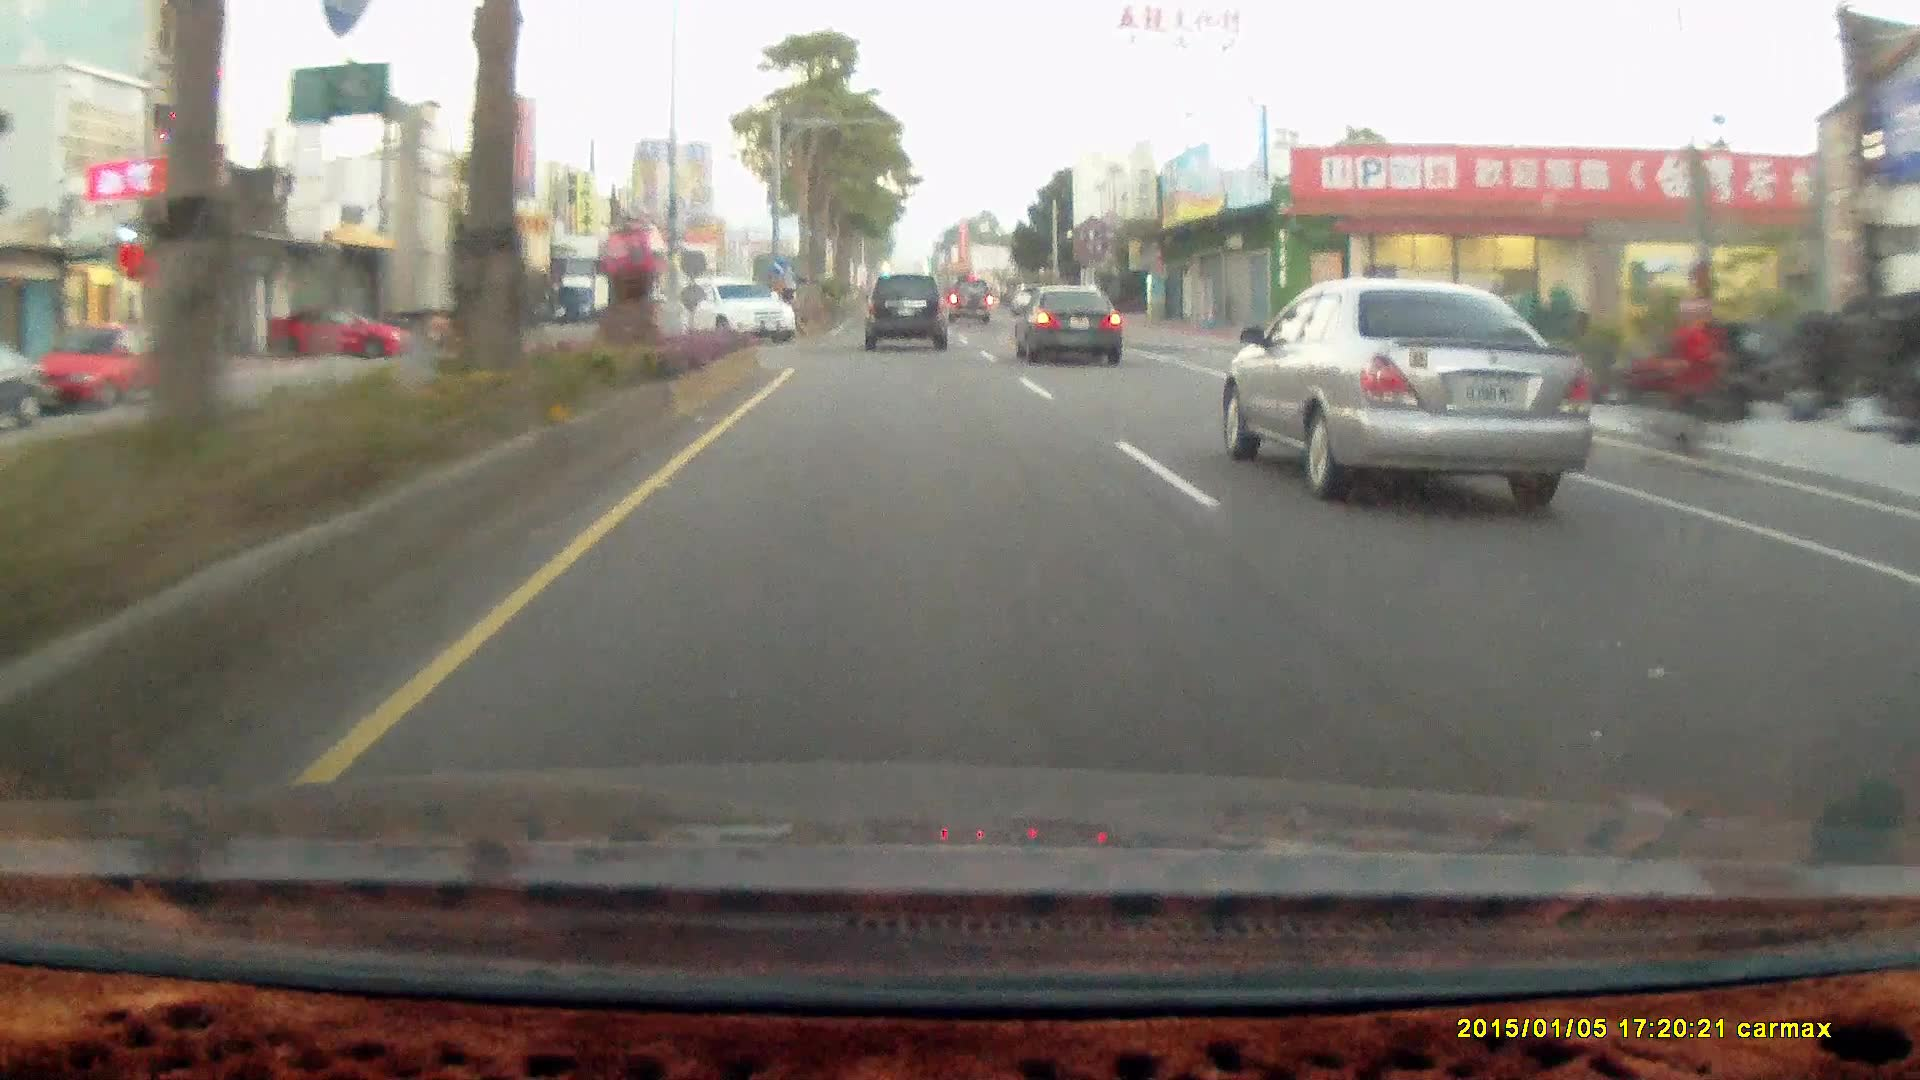pedestrian: (1658, 297, 1724, 472), (1671, 299, 1729, 458)
vehicle: (1238, 280, 1596, 506), (30, 326, 168, 411), (35, 325, 171, 410), (1011, 284, 1128, 369), (261, 305, 419, 361), (1011, 285, 1121, 366), (669, 279, 796, 347), (265, 304, 416, 360), (693, 281, 801, 349), (864, 277, 955, 355), (863, 273, 946, 351), (0, 337, 41, 431), (946, 282, 995, 331), (946, 274, 994, 324)
